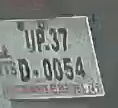0: (51, 55, 64, 82), (42, 58, 52, 83)
3: (46, 24, 60, 53)
4: (74, 56, 85, 81)
5: (63, 57, 75, 81)
7: (57, 24, 71, 52)
D: (18, 58, 32, 85)
P: (34, 27, 47, 53)
U: (23, 28, 36, 56)
